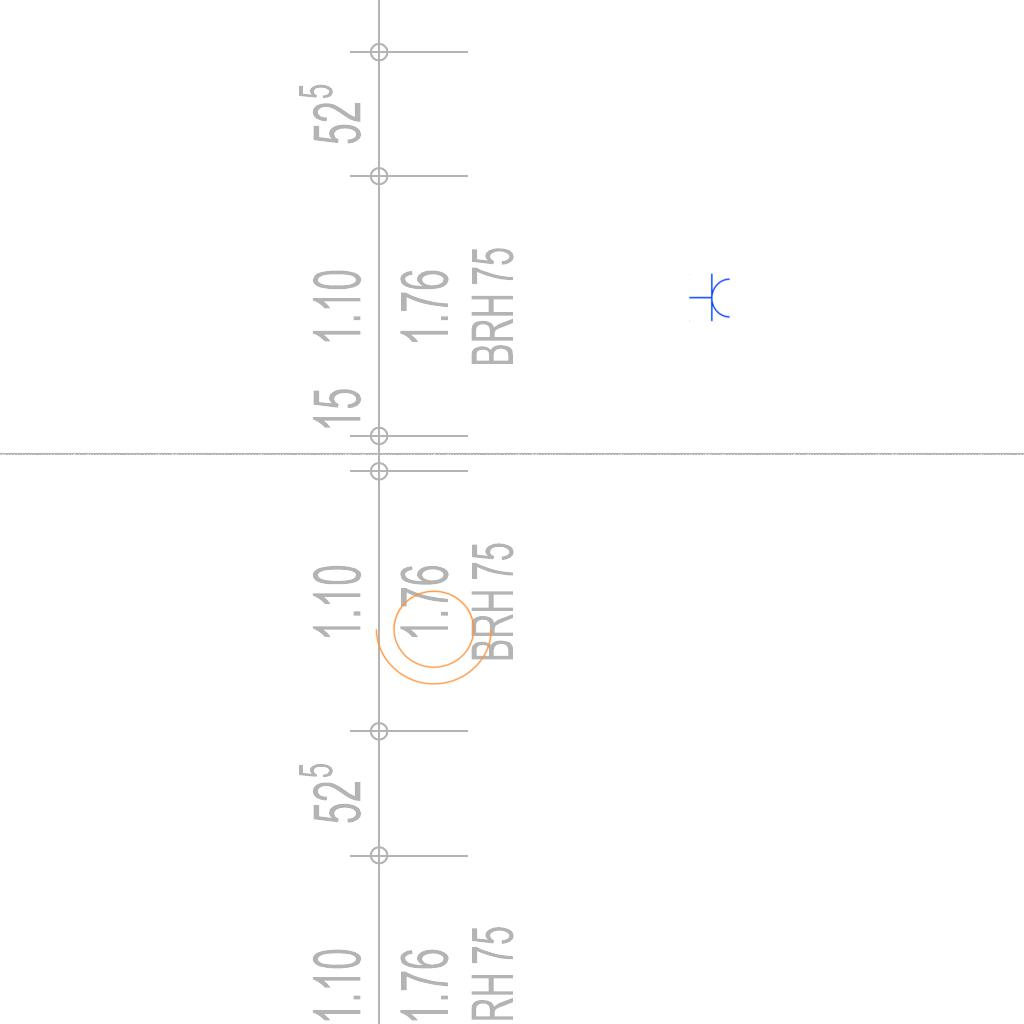Scheinwerfer_fuer_Alarmbeleuchtung: (371, 578, 503, 690)
Schukosteckdose_einfach: (689, 273, 732, 323)
